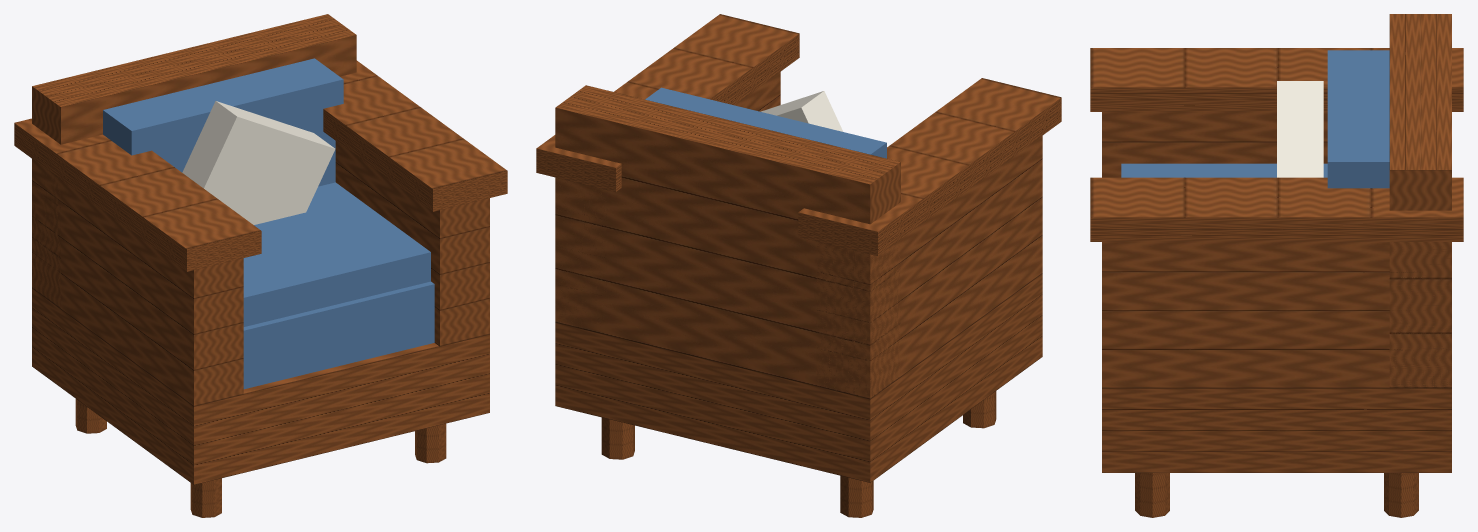
File: armchair_lounge.glb
3 views of the same model, side by side, from view 1: azimuth 30°, elevation 25°; view 2: azimuth 150°, elevation 25°; view 3: azimuth 270°, elevation 25° (orthographic). The views are drawn at different scales.
Visible parts, largest first — view 1: cruise-ship-deck-and-lounge-lounge-armchair; view 2: cruise-ship-deck-and-lounge-lounge-armchair; view 3: cruise-ship-deck-and-lounge-lounge-armchair.
Part boxes in pixels (x1=…): cruise-ship-deck-and-lounge-lounge-armchair: x1=14, y1=14, x2=507, y2=517; cruise-ship-deck-and-lounge-lounge-armchair: x1=536, y1=14, x2=1061, y2=517; cruise-ship-deck-and-lounge-lounge-armchair: x1=1090, y1=14, x2=1463, y2=517.
Bounding box in the file's own units: 1.03 × 1.02 × 0.96.
3 materials, 1 textured.
